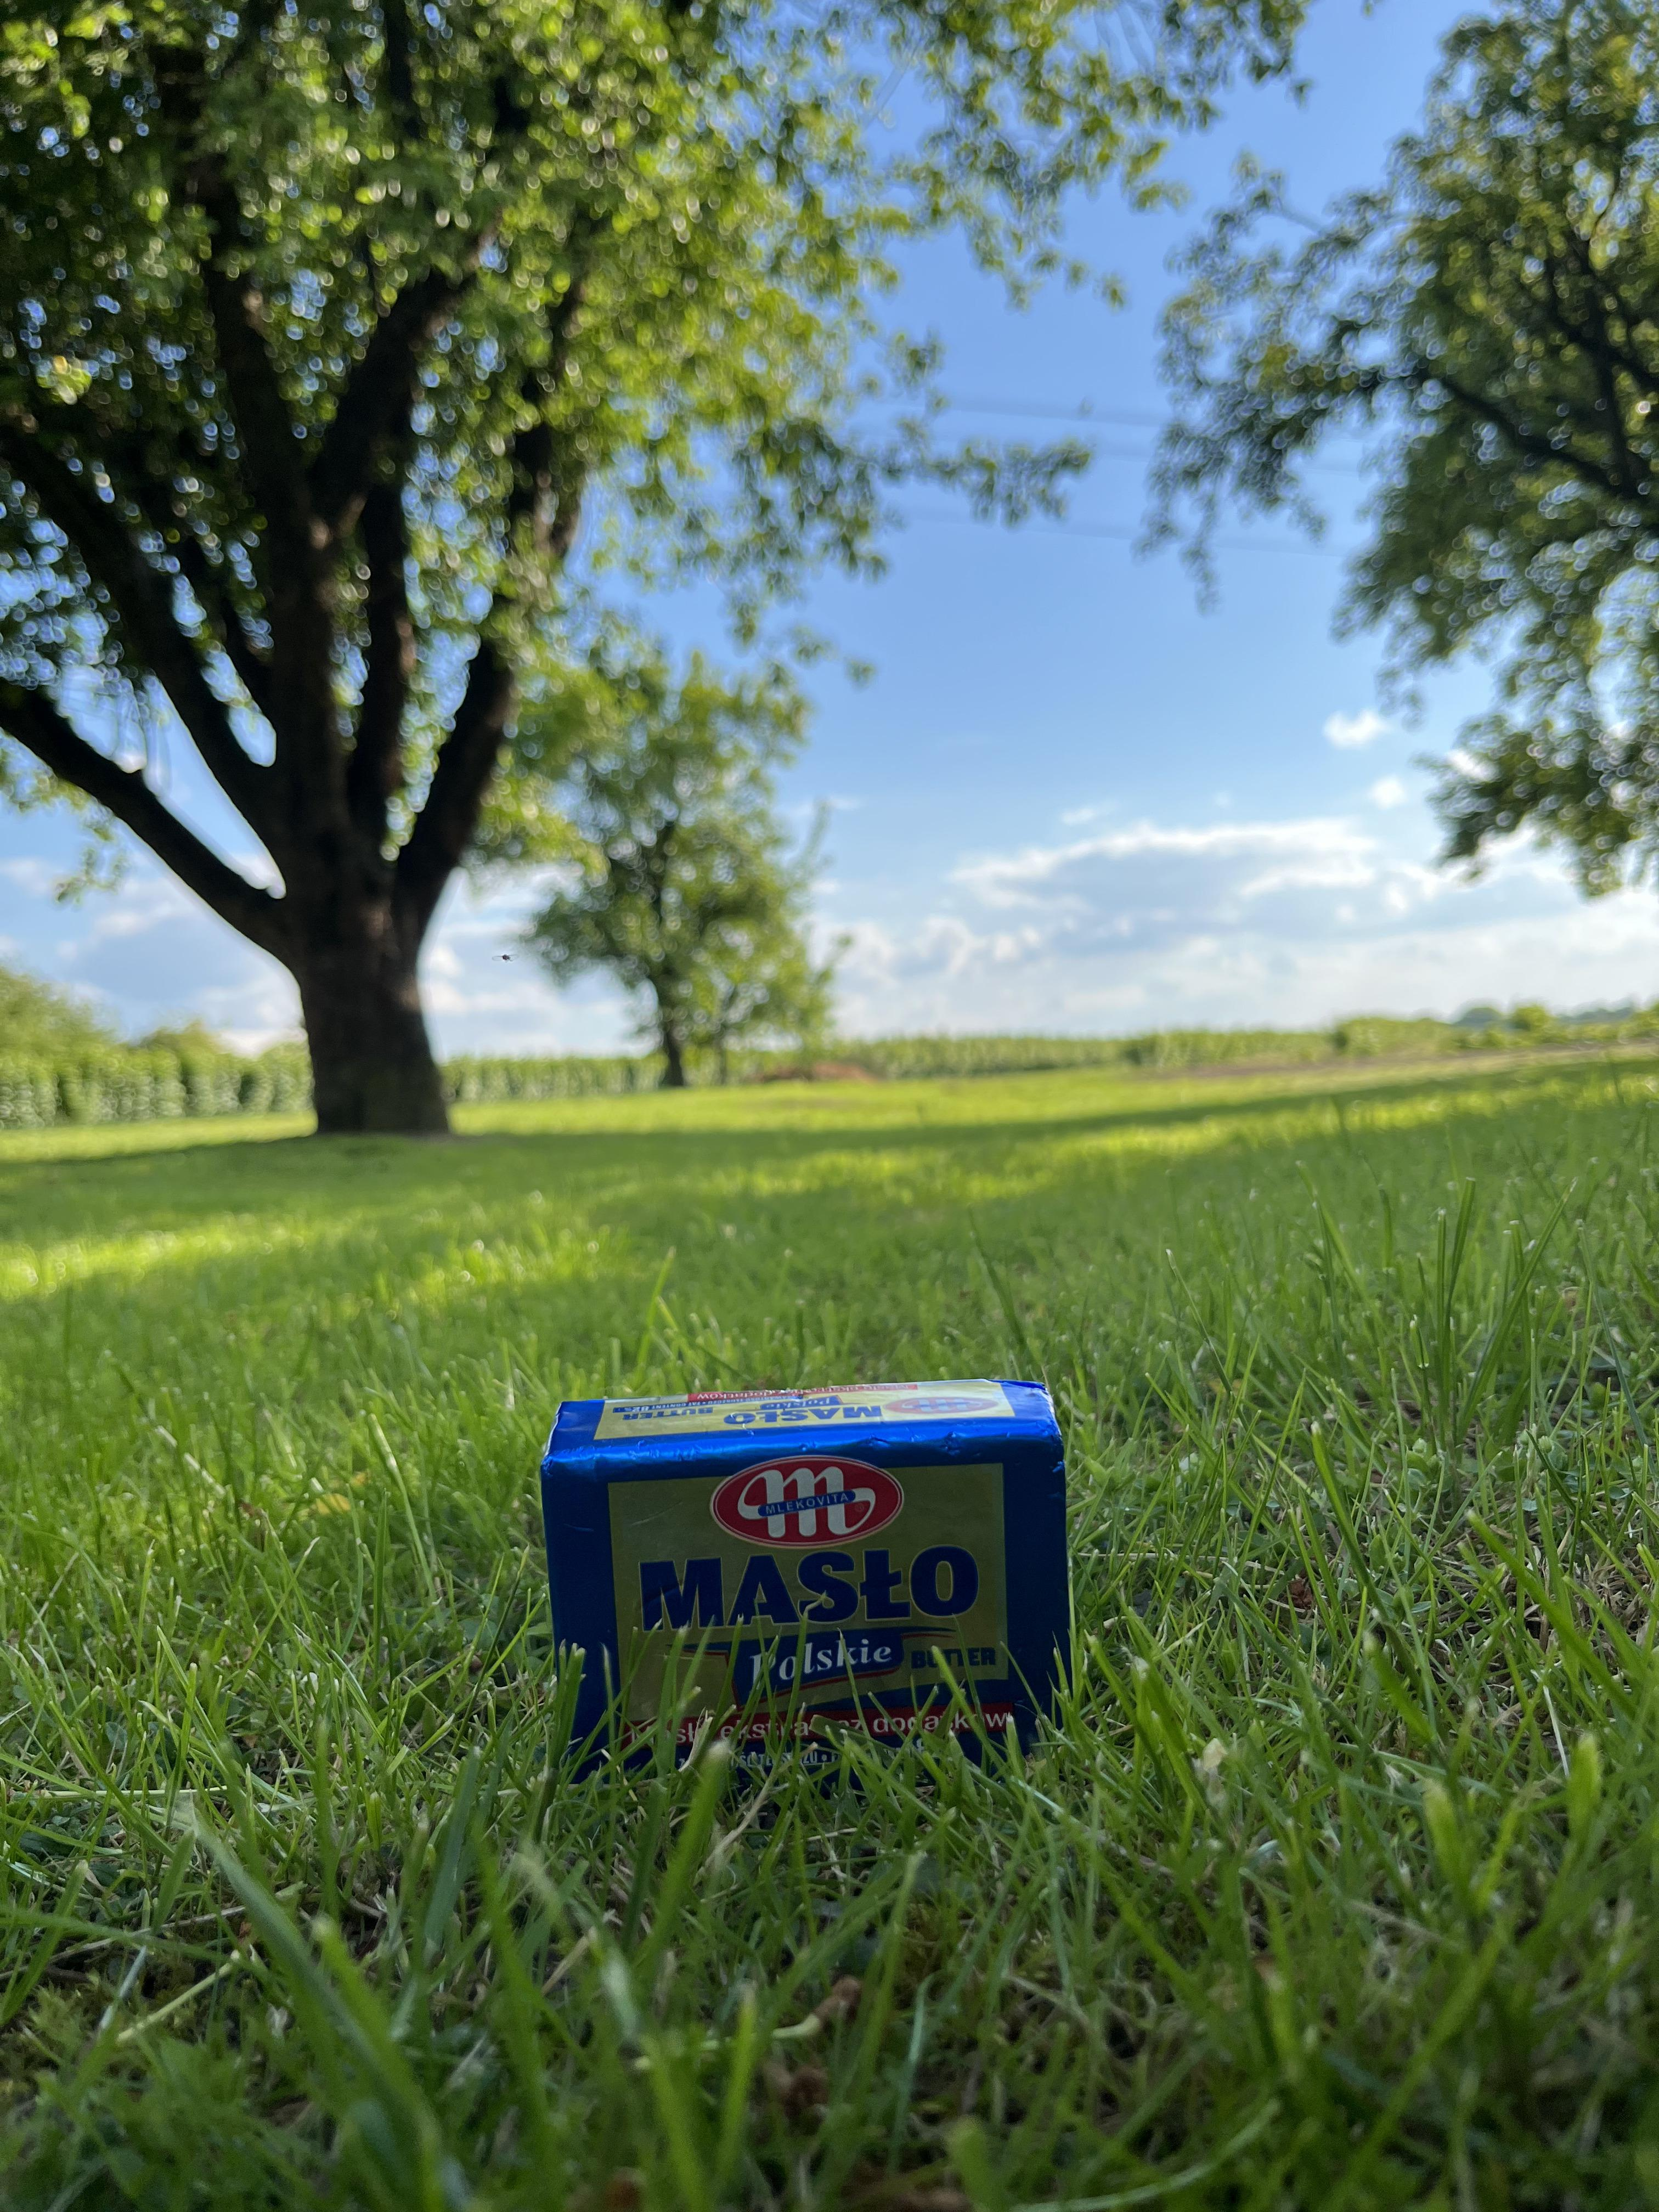Butter: (535, 1383, 1068, 1733)
